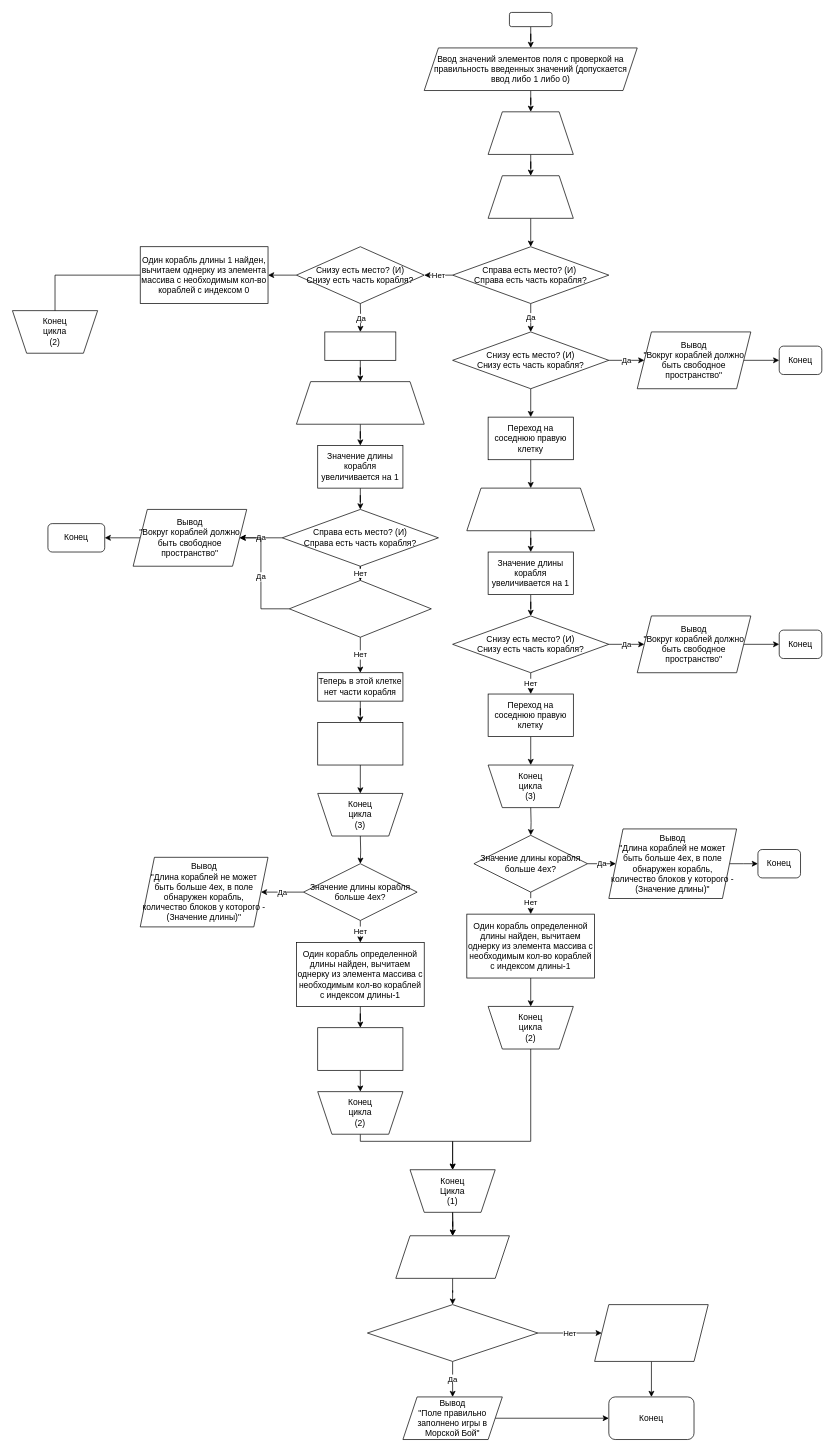
Image size: 834x1452. Some labels were removed from this diagram. Here are the shapes that lost their labels. From the top down, the box of each, then its label:
(509, 12, 552, 27): Начало
(487, 111, 573, 154): i = 0 до i = 9 (1)
(487, 175, 573, 218): j = 0 до j = 9 (2)
(324, 331, 396, 360): Переход на клетку ниже
(296, 381, 424, 424): Пока снизу есть место (И) снизу есть часть корабля (3)
(466, 487, 595, 531): Пока справа есть место и справа есть часть корабля (3)
(289, 580, 431, 637): Слева есть место? (И) Слева есть часть корабля?
(317, 722, 403, 765): Переход на соседнюю нижнюю. клетку
(317, 1027, 403, 1070): Возврат на клетку, с которой начинали (i = длина)
(395, 1235, 509, 1278): Вывод информации о количестве кораблей длинной 1, 2, 3,4
(367, 1304, 538, 1361): В массиве с кол-вом кораблей определенной длины одни нули?
(594, 1304, 708, 1361): Вывод "Поле неправильно заполнено для игры в Морской Бой"
